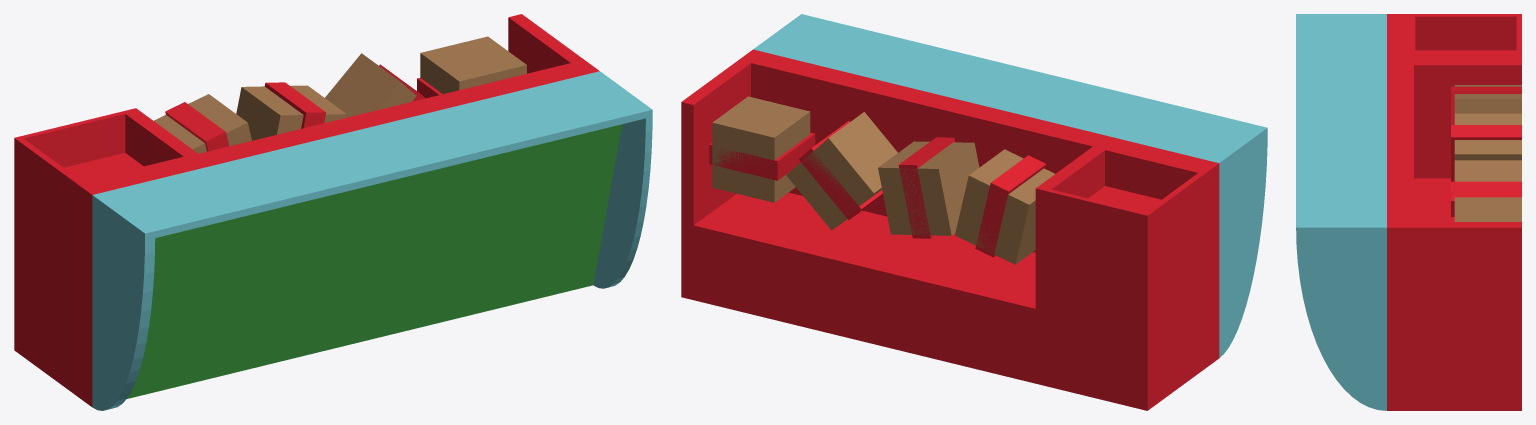
File: tinker.obj
3 views of the same model, side by side, from view 1: azimuth 30°, elevation 25°; view 2: azimuth 150°, elevation 25°; view 3: azimuth 270°, elevation 25° (orthographic). The views are drawn at different scales.
Parts seen in each view (by area): view 1: obj_1, obj_0, obj_2, obj_3, obj_6, obj_8, obj_10, obj_9, obj_7; view 2: obj_2, obj_0, obj_3, obj_8, obj_6, obj_10, obj_9, obj_7, obj_4, obj_5; view 3: obj_2, obj_0, obj_8, obj_3, obj_6, obj_10, obj_5, obj_7, obj_9.
Part boxes in pixels (box(x1,y1,x2,y2)): obj_1: box(127, 124, 621, 398); obj_0: box(92, 71, 652, 410); obj_2: box(14, 14, 599, 406); obj_3: box(420, 36, 526, 93); obj_6: box(325, 53, 416, 117); obj_8: box(236, 85, 346, 140); obj_10: box(153, 94, 251, 153); obj_9: box(165, 102, 228, 151); obj_7: box(264, 82, 326, 128); obj_2: box(681, 49, 1219, 410); obj_0: box(753, 14, 1267, 357); obj_3: box(712, 96, 810, 202); obj_8: box(878, 141, 979, 235); obj_6: box(786, 112, 897, 230); obj_10: box(955, 149, 1054, 264); obj_9: box(975, 155, 1046, 257); obj_7: box(898, 137, 955, 238); obj_4: box(709, 132, 815, 180); obj_5: box(799, 121, 882, 220); obj_2: box(1387, 14, 1521, 410); obj_0: box(1296, 14, 1386, 410); obj_8: box(1454, 113, 1521, 160); obj_3: box(1454, 197, 1521, 221); obj_6: box(1454, 160, 1521, 181); obj_10: box(1454, 85, 1521, 113); obj_5: box(1451, 181, 1521, 216); obj_7: box(1451, 125, 1521, 181); obj_9: box(1451, 86, 1521, 124).
Bounding box in the file's own units: 150 × 60.01 × 67.
